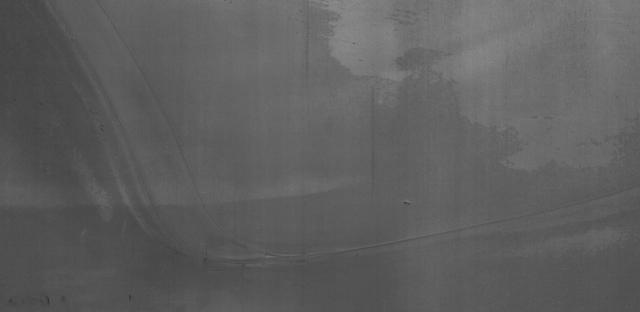crease: (25, 1, 198, 268), (202, 182, 620, 280)
